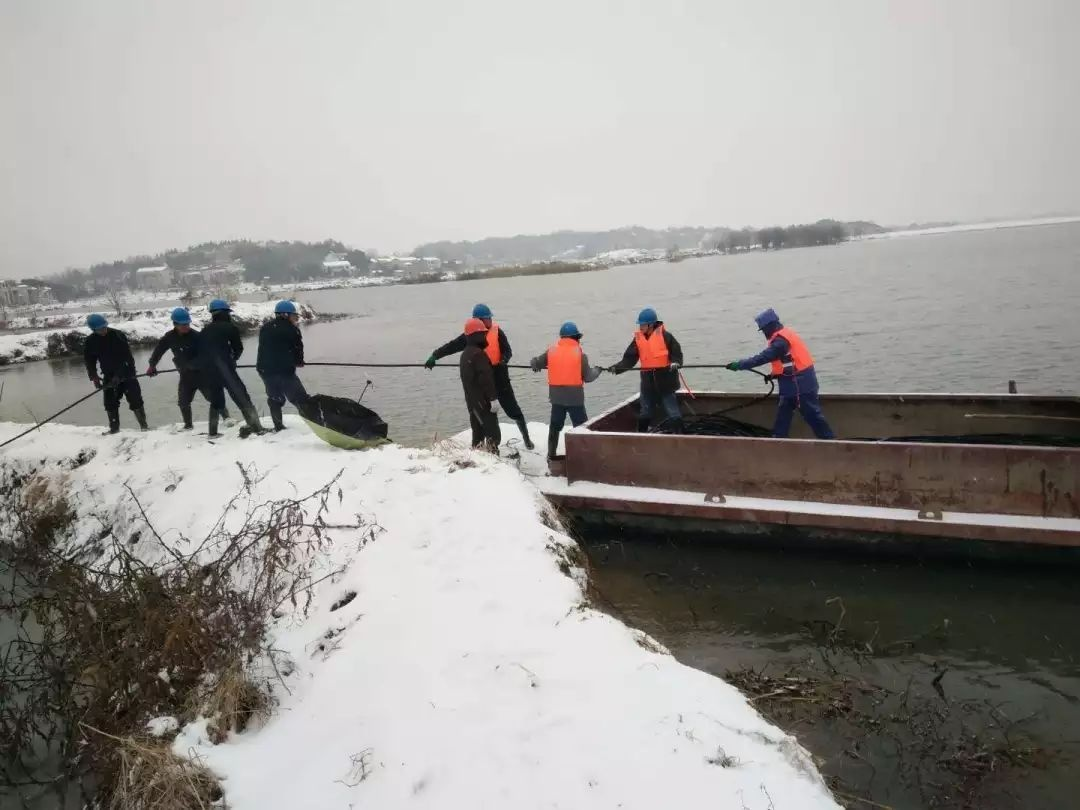blue: (633, 306, 658, 334), (169, 305, 191, 332), (274, 300, 299, 323), (472, 302, 494, 327), (85, 312, 107, 337), (208, 299, 232, 321), (558, 320, 579, 342)
red: (464, 317, 488, 344)
